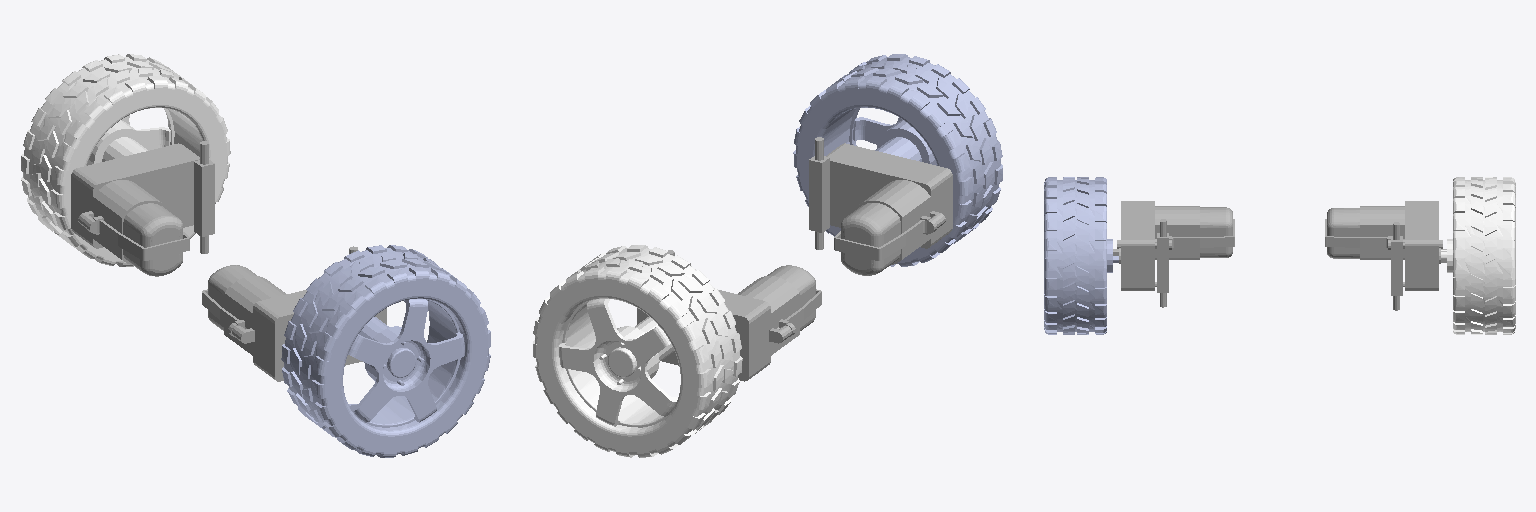
robot.urdf — SBRobot:
<?xml version="1.0" encoding="utf-8"?>
<!-- This URDF was automatically created by SolidWorks to URDF Exporter! Originally created by [author] ([email redacted]) 
     Commit Version: 1.6.0-4-g7f85cfe  Build Version: 1.6.7995.38578
     For more information, please see http://wiki.ros.org/sw_urdf_exporter -->
<robot
  name="SBRobot">
  <link
    name="base_link">
    <inertial>
      <origin
        xyz="-0.051351 -5.9517E-05 0.030448"
        rpy="0 0 0" />
      <mass
        value="0.26472" />
      <inertia
        ixx="0.00026506"
        ixy="5.9012E-08"
        ixz="3.5718E-09"
        iyy="0.00013752"
        iyz="-2.6734E-08"
        izz="0.00038317" />
    </inertial>
    <visual>
      <origin
        xyz="0 0 0"
        rpy="0 0 0" />
      <geometry>
        <mesh
          filename="package://SBRobot/meshes/base_link.STL" />
      </geometry>
      <material
        name="">
        <color
          rgba="0.75294 0.75294 0.75294 1" />
      </material>
    </visual>
    <collision>
      <origin
        xyz="0 0 0"
        rpy="0 0 0" />
      <geometry>
        <mesh
          filename="package://SBRobot/meshes/base_link.STL" />
      </geometry>
    </collision>
  </link>
  <link
    name="L_Link">
    <inertial>
      <origin
        xyz="-0.0027172 -0.01577 -0.0023613"
        rpy="0 0 0" />
      <mass
        value="0.030141" />
      <inertia
        ixx="1.2309E-05"
        ixy="6.7734E-11"
        ixz="2.5319E-10"
        iyy="2.0381E-05"
        iyz="5.8879E-11"
        izz="1.2309E-05" />
    </inertial>
    <visual>
      <origin
        xyz="0 0 0"
        rpy="0 0 0" />
      <geometry>
        <mesh
          filename="package://SBRobot/meshes/L_Link.STL" />
      </geometry>
      <material
        name="">
        <color
          rgba="0.79216 0.81961 0.93333 1" />
      </material>
    </visual>
    <collision>
      <origin
        xyz="0 0 0"
        rpy="0 0 0" />
      <geometry>
        <mesh
          filename="package://SBRobot/meshes/L_Link.STL" />
      </geometry>
    </collision>
  </link>
  <joint
    name="L_joint"
    type="revolute">
    <origin
      xyz="-0.046937 -0.06915 -0.011449"
      rpy="0 0 0" />
    <parent
      link="base_link" />
    <child
      link="L_Link" />
    <axis
      xyz="0 1 0" />
    <limit
      lower="0"
      upper="0"
      effort="0"
      velocity="0" />
  </joint>
  <link
    name="R_Link">
    <inertial>
      <origin
        xyz="0 0 0"
        rpy="0 0 0" />
      <mass
        value="0" />
      <inertia
        ixx="0"
        ixy="0"
        ixz="0"
        iyy="0"
        iyz="0"
        izz="0" />
    </inertial>
    <visual>
      <origin
        xyz="0 0 0"
        rpy="0 0 0" />
      <geometry>
        <mesh
          filename="package://SBRobot/meshes/R_Link.STL" />
      </geometry>
      <material
        name="">
        <color
          rgba="1 1 1 1" />
      </material>
    </visual>
    <collision>
      <origin
        xyz="0 0 0"
        rpy="0 0 0" />
      <geometry>
        <mesh
          filename="package://SBRobot/meshes/R_Link.STL" />
      </geometry>
    </collision>
  </link>
  <joint
    name="R_joint"
    type="revolute">
    <origin
      xyz="-0.046937 0.06915 -0.016171"
      rpy="0 0 0" />
    <parent
      link="base_link" />
    <child
      link="R_Link" />
    <axis
      xyz="0 -1 0" />
    <limit
      lower="0"
      upper="0"
      effort="0"
      velocity="0" />
  </joint>
</robot>

--- Render facts (derived) ---
3 views of the same robot in one strip: view 1: azimuth 30°, elevation 25°; view 2: azimuth 150°, elevation 25°; view 3: azimuth 270°, elevation 25° (orthographic).
Model SBRobot with 3 links and 2 joints (2 revolute), rooted at base_link, posed every joint at zero.
Visible links, largest first — view 1: L_Link, base_link, R_Link; view 2: R_Link, base_link, L_Link; view 3: base_link, R_Link, L_Link.
Link boxes in pixels (<box>): L_Link: <box>281,245,490,457</box>; base_link: <box>71,141,386,381</box>; R_Link: <box>21,54,230,266</box>; R_Link: <box>533,245,742,457</box>; base_link: <box>637,137,952,381</box>; L_Link: <box>793,54,1002,266</box>; base_link: <box>1113,201,1446,310</box>; R_Link: <box>1441,177,1515,334</box>; L_Link: <box>1044,177,1118,334</box>.
Bounding box of the posed robot: 0.0687 × 0.1947 × 0.065 m (x, y, z).
3 mesh visuals loaded from 3 distinct referenced files (3 binary STL).